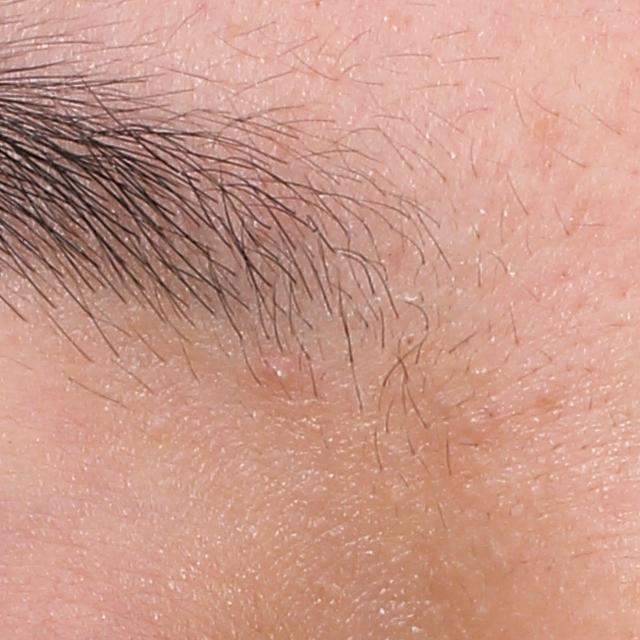comedo: (401, 331, 420, 351)
